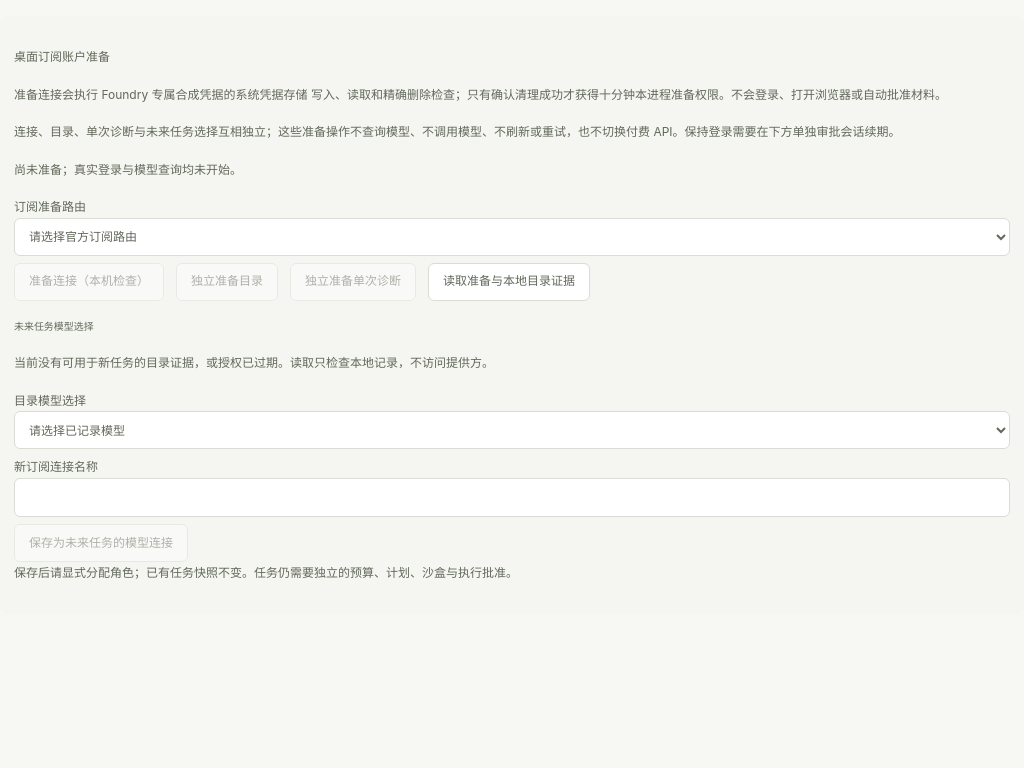
Test: desktop subscription preparation › locks unknown preparation until explicit metadata read
Expected: the text "尚未准备；真实登录与模型查询均未开始。" is shown, [14,162,242,177]
Select "r · subscription_only" in the dropdown labelled "订阅准备路由" at (512, 237), box [14,218,1010,256]
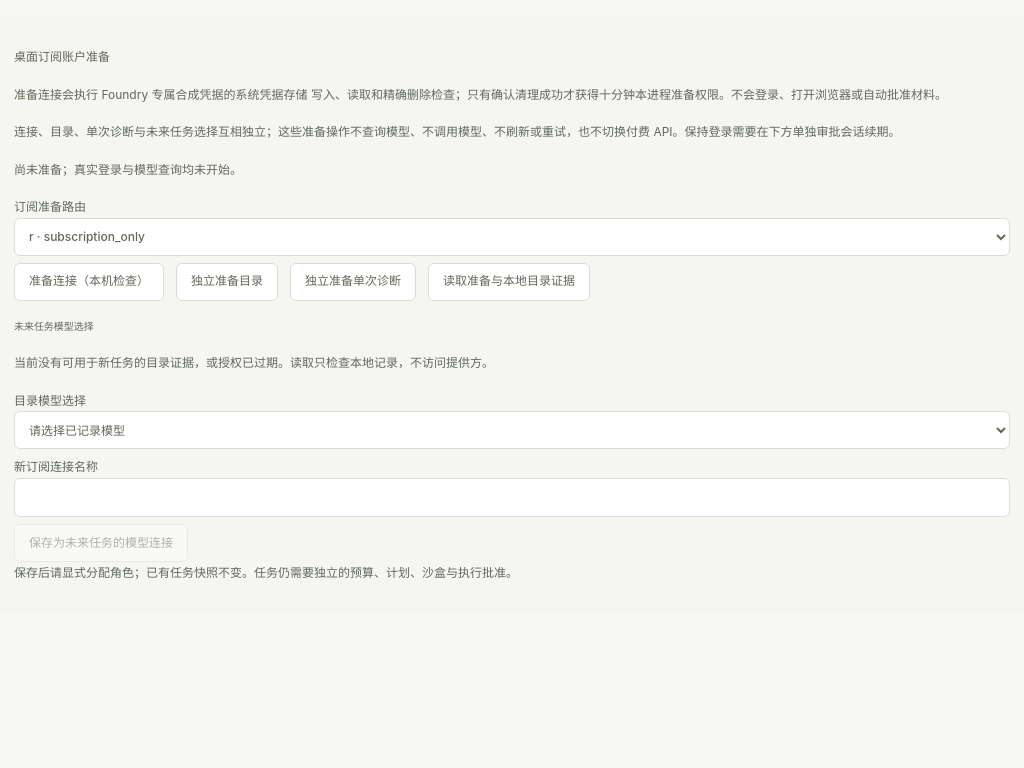
Click the button "准备连接（本机检查）" at (89, 282), box [14,263,164,301]
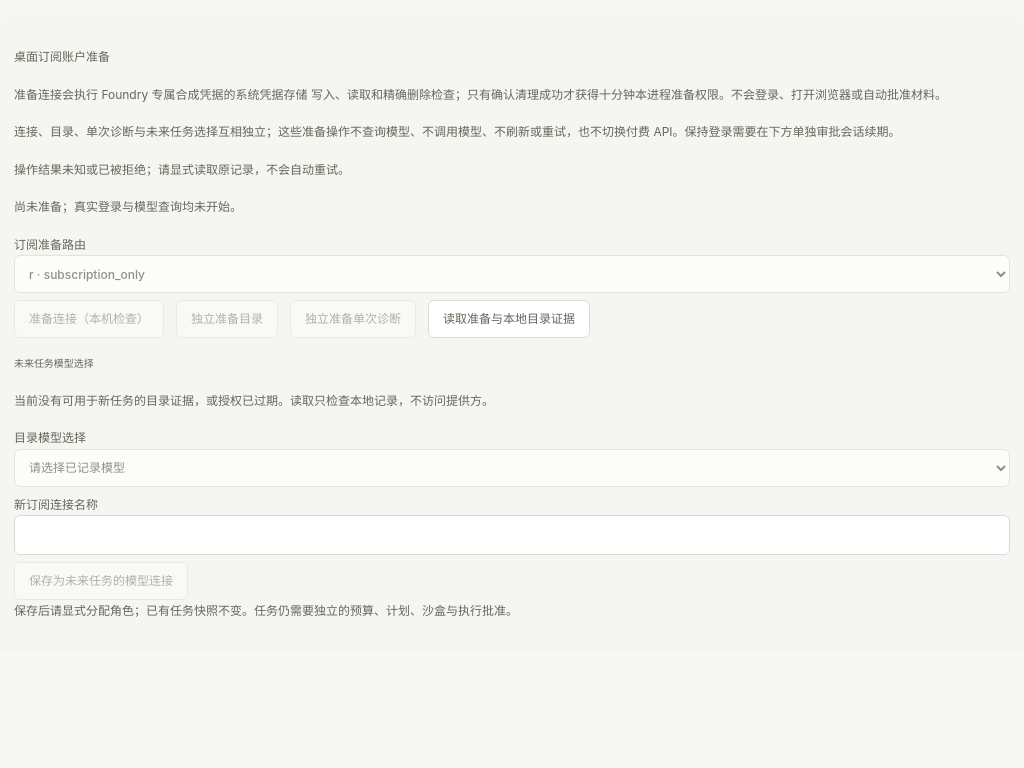
Expected: the text "操作结果未知或已被拒绝；请显式读取原记录，不会自动重试。" is shown, [14,162,350,177]
Expected: the button "准备连接（本机检查）" is disabled, [14,300,164,338]
Click the button "读取准备与本地目录证据" at (509, 320), box [428,300,590,338]
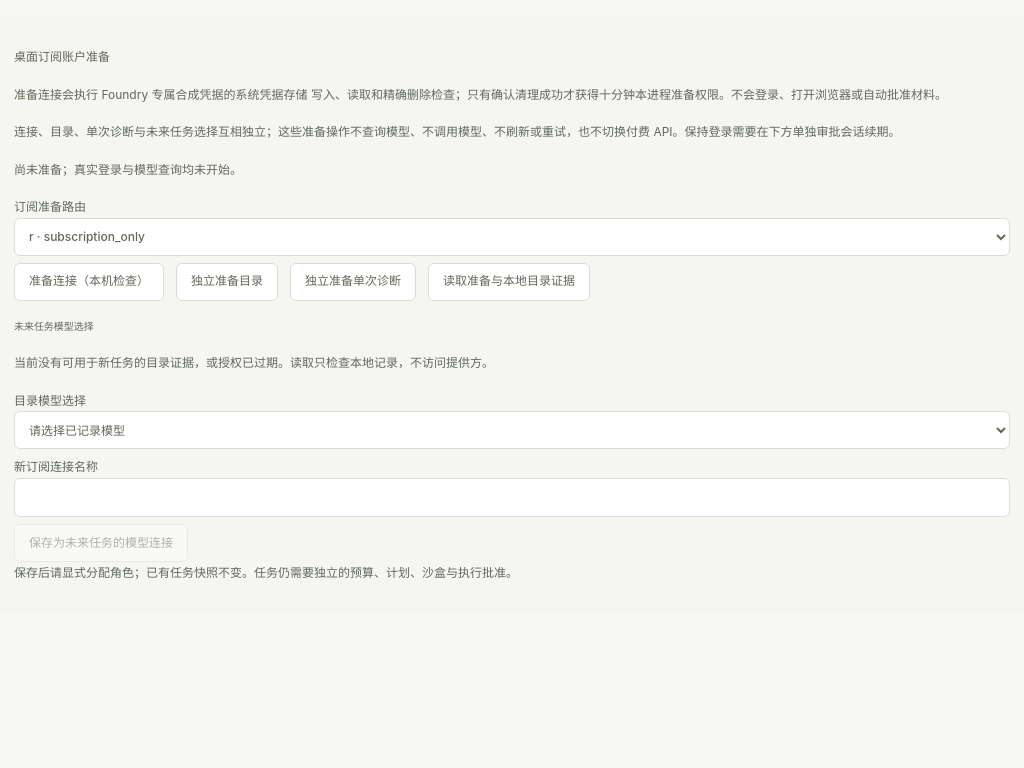
Expected: the button "准备连接（本机检查）" is enabled, [14,263,164,301]
